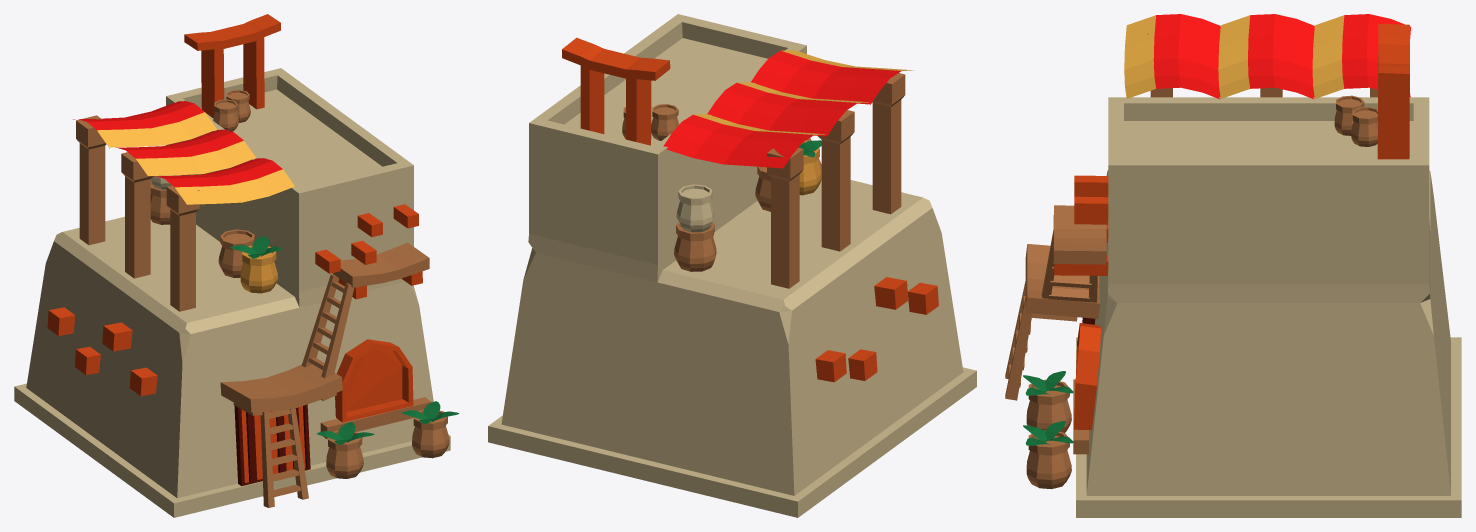
The model's file is Building_DesertHouse_0.FBX.
3 views of the same model, side by side, from view 1: azimuth 30°, elevation 25°; view 2: azimuth 150°, elevation 25°; view 3: azimuth 270°, elevation 25° (orthographic). The views are drawn at different scales.
Visible parts, largest first — view 1: sand_House_1; view 2: sand_House_1; view 3: sand_House_1.
Boxes of the visible parts, left/top/right/bottom form: sand_House_1: left=14, top=14, right=459, bottom=517; sand_House_1: left=488, top=14, right=976, bottom=517; sand_House_1: left=1005, top=14, right=1461, bottom=517.
Size of the model in its own units: 1065 by 1261 by 1277.
